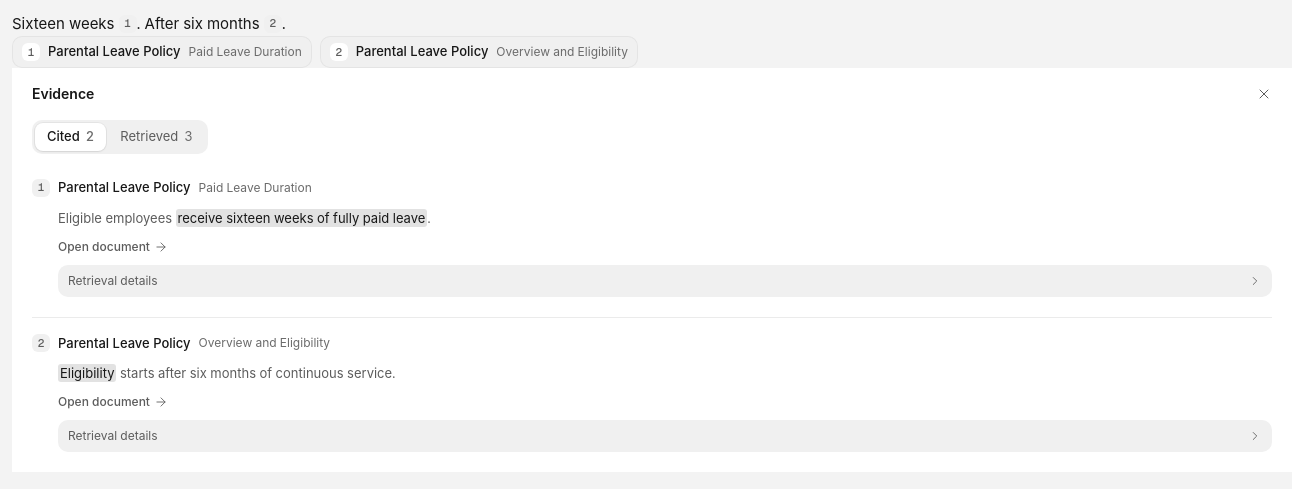
EvidencePanel › shows the retrieved footer to admins
The image size is (1292, 489).
Click the tab "Retrieved 3" at (156, 137), box [108,123,205,151]
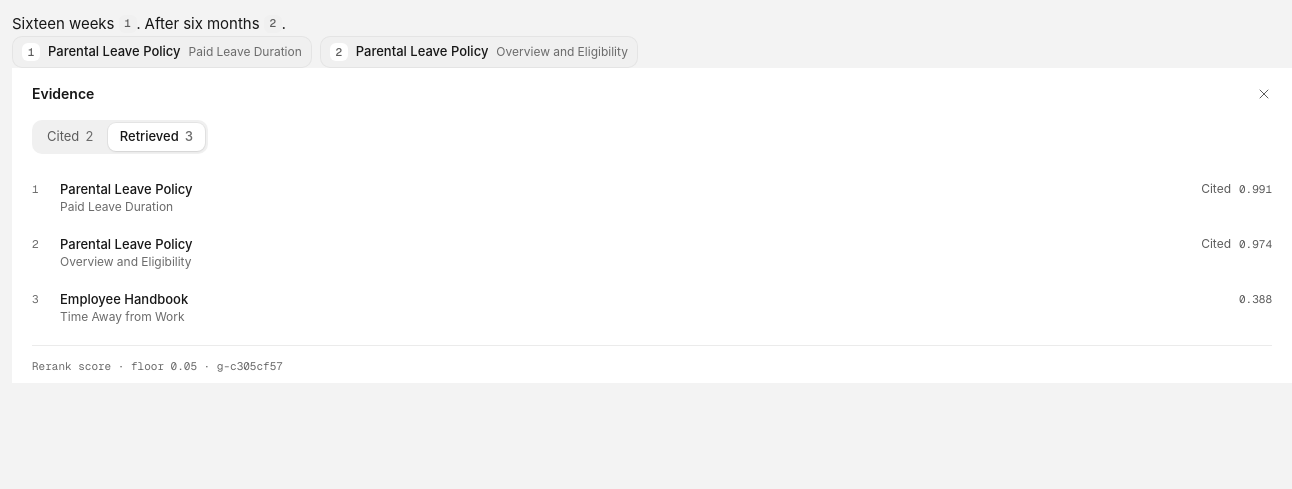
Now the text "0.991" is shown, box [1239,181,1272,197]
Now the text "Rerank score · floor 0.05 · g-c305cf57" is shown, box [32,345,1272,375]
